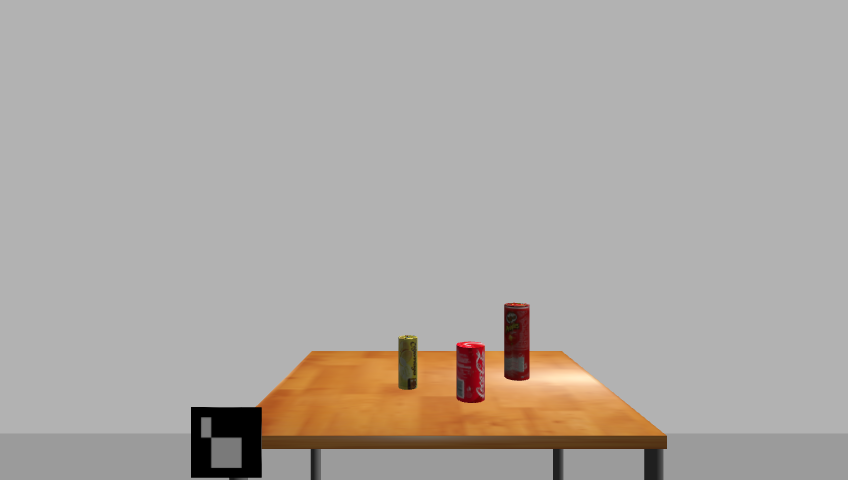aruco marker: (185, 405, 267, 480)
biscuits pack: (398, 335, 418, 392)
coke can: (454, 342, 487, 404)
dinner table: (247, 349, 675, 479)
pringles can: (503, 302, 532, 382)
